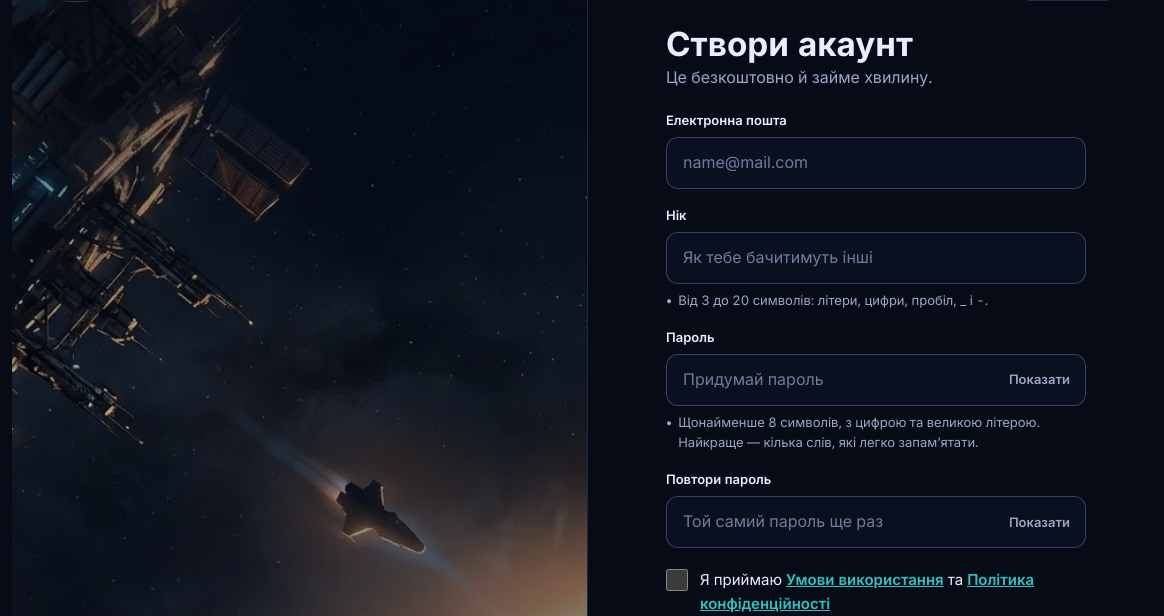
RegisterPage › shows the rules the server refused next to their fields
Type "pilot@example.test" into the field labelled "Електронна пошта" at (876, 163), box [666,137,1086,189]
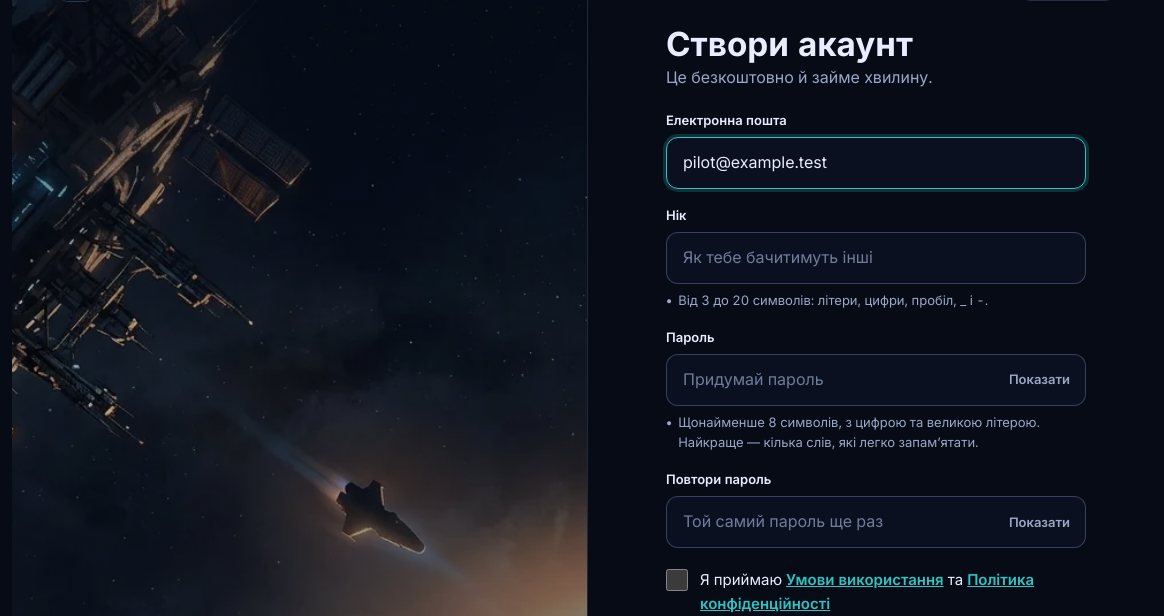
Type "Pilot" into the field labelled "Нік" at (876, 258), box [666,232,1086,284]
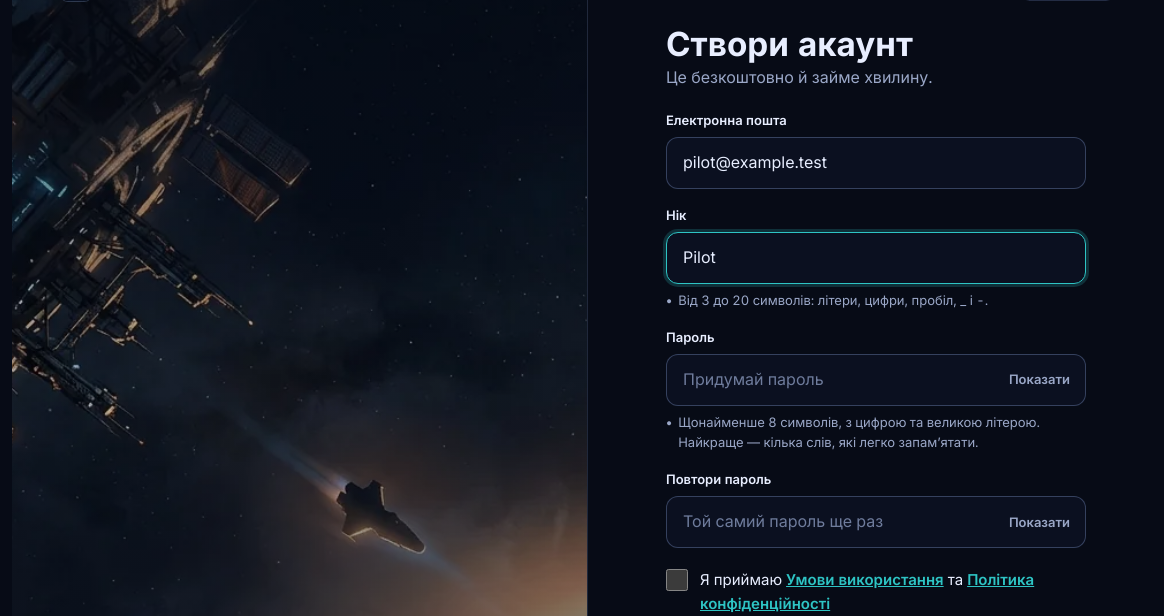
Type "Password123456" into the password field labelled "Пароль" at (876, 380), box [666,354,1086,406]
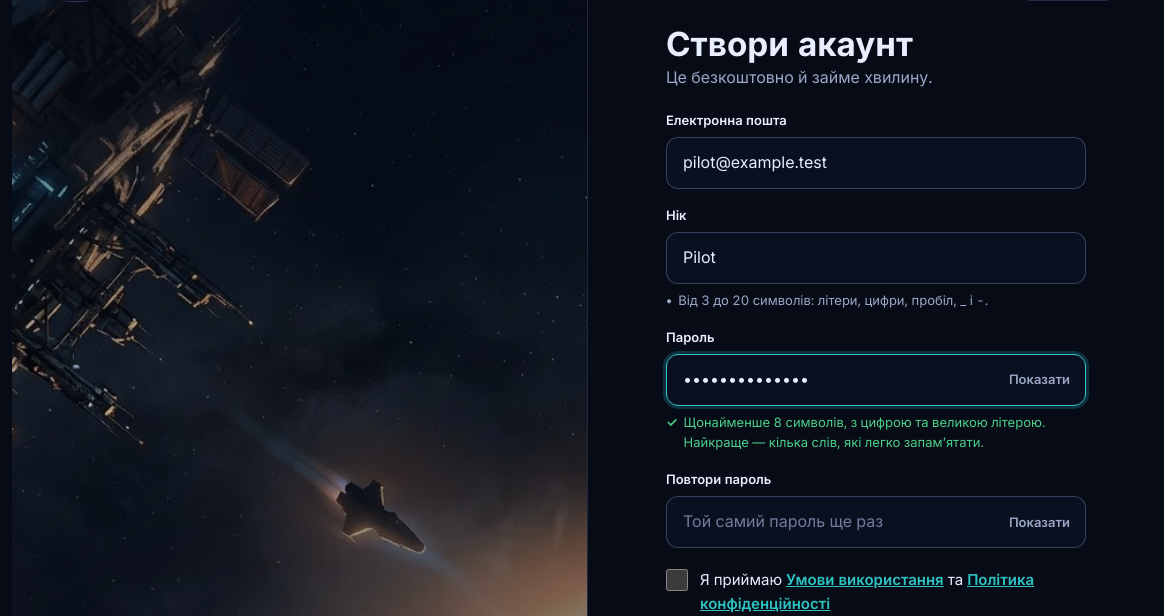
Type "Password123456" into the password field labelled "Повтори пароль" at (876, 522), box [666,496,1086,548]
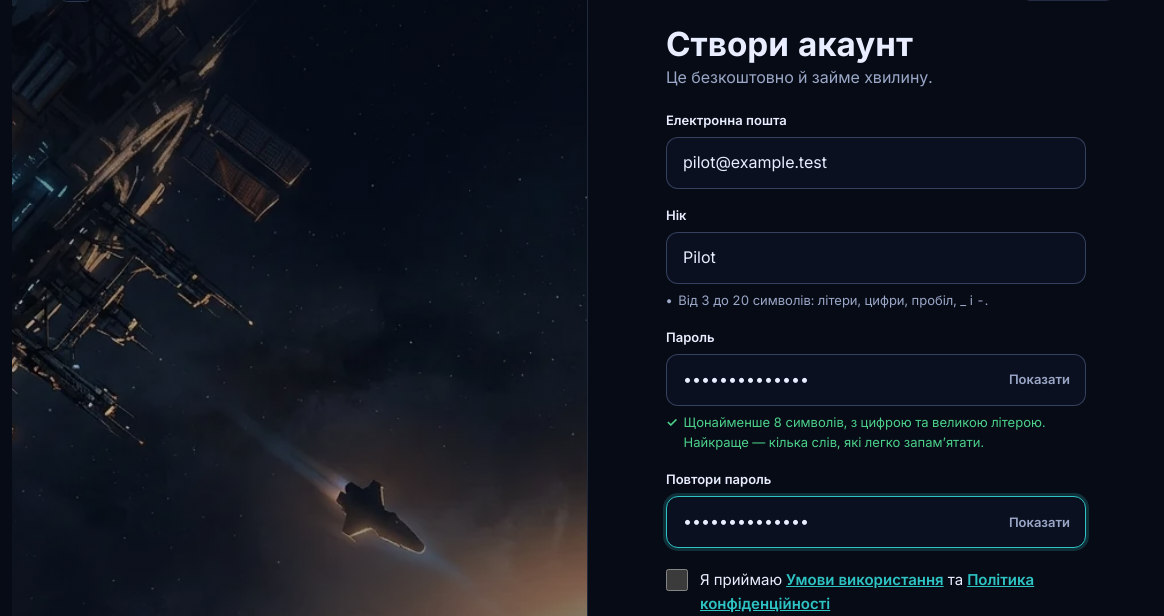
Click the checkbox at (677, 580), box [666,569,688,591]
(page scrolled)
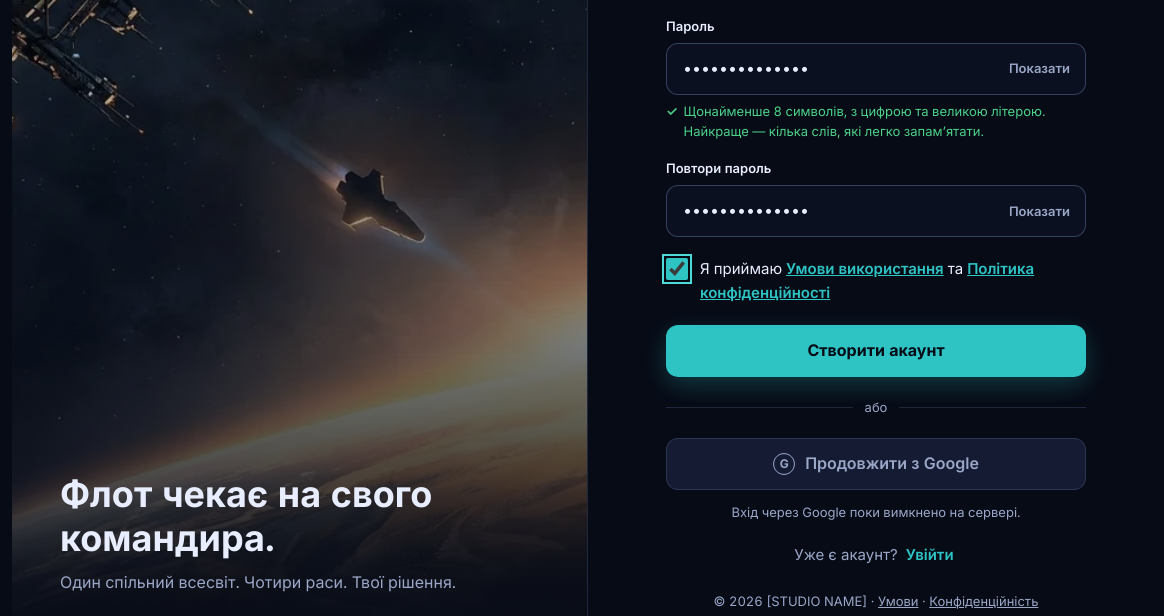
Click the button "Створити акаунт" at (876, 351), box [666,325,1086,377]
(page scrolled)
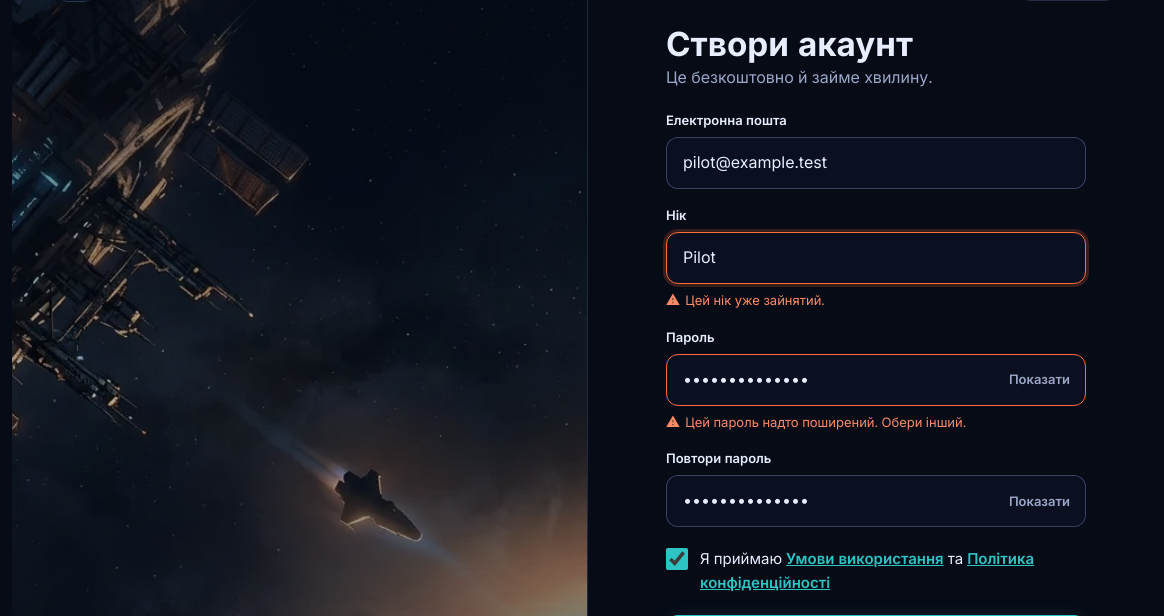
Check: the text "Цей пароль надто поширений. Обери інший." is shown, box [685,414,966,430]
Check: the text "Цей нік уже зайнятий." is shown, box [685,292,825,308]
